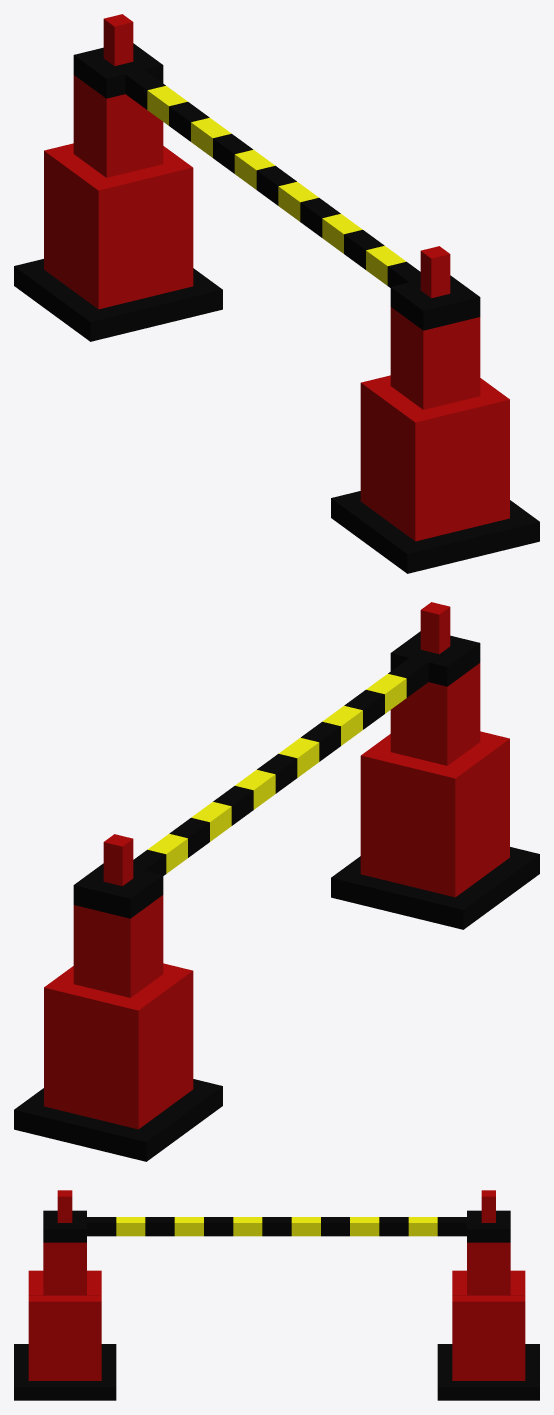
The picture shows the model from 3 angles, top to bottom: view 1: azimuth 30°, elevation 25°; view 2: azimuth 150°, elevation 25°; view 3: azimuth 270°, elevation 25°; orthographic projection. The views are drawn at different scales.
Parts seen in each view (by area): view 1: 立方体.001; view 2: 立方体.001; view 3: 立方体.001.
Part boxes in pixels (bbox=[...]): 立方体.001: bbox=[14, 14, 539, 573]; 立方体.001: bbox=[14, 602, 539, 1161]; 立方体.001: bbox=[14, 1190, 539, 1400].
Bounding box in the file's own units: 7 × 14 × 36.
